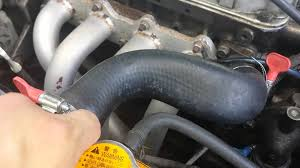radiator_hose: (61, 49, 266, 124)
